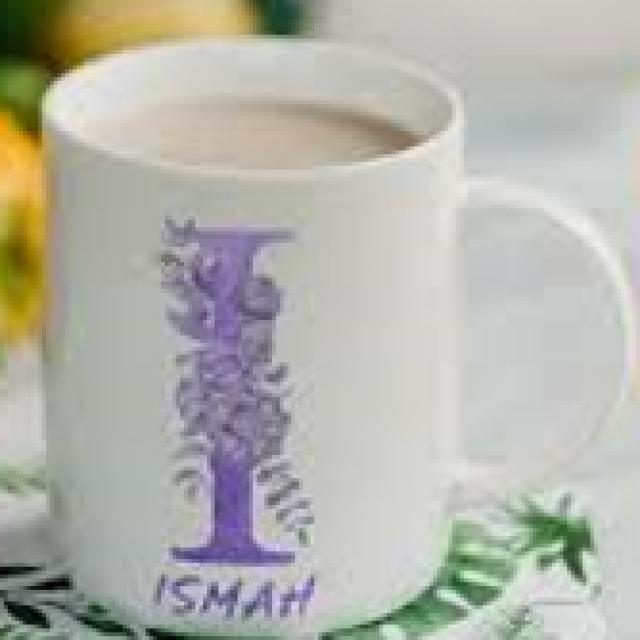taza: (40, 36, 640, 636)
